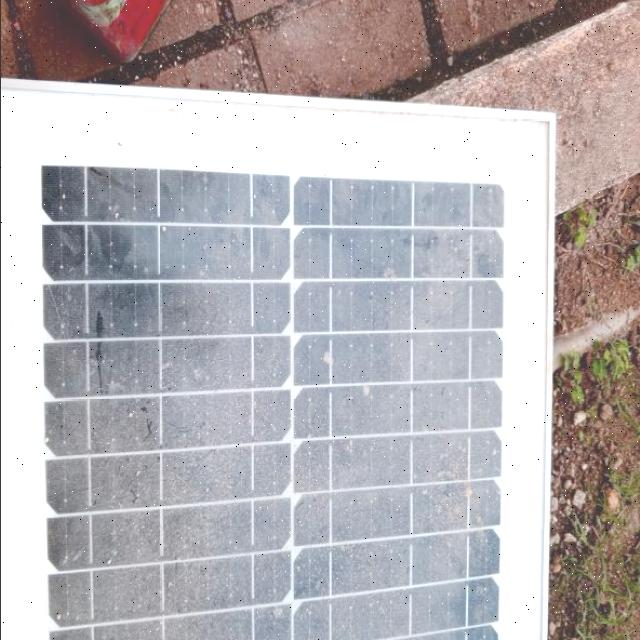Surface Contaminant: (10, 146, 518, 640)
